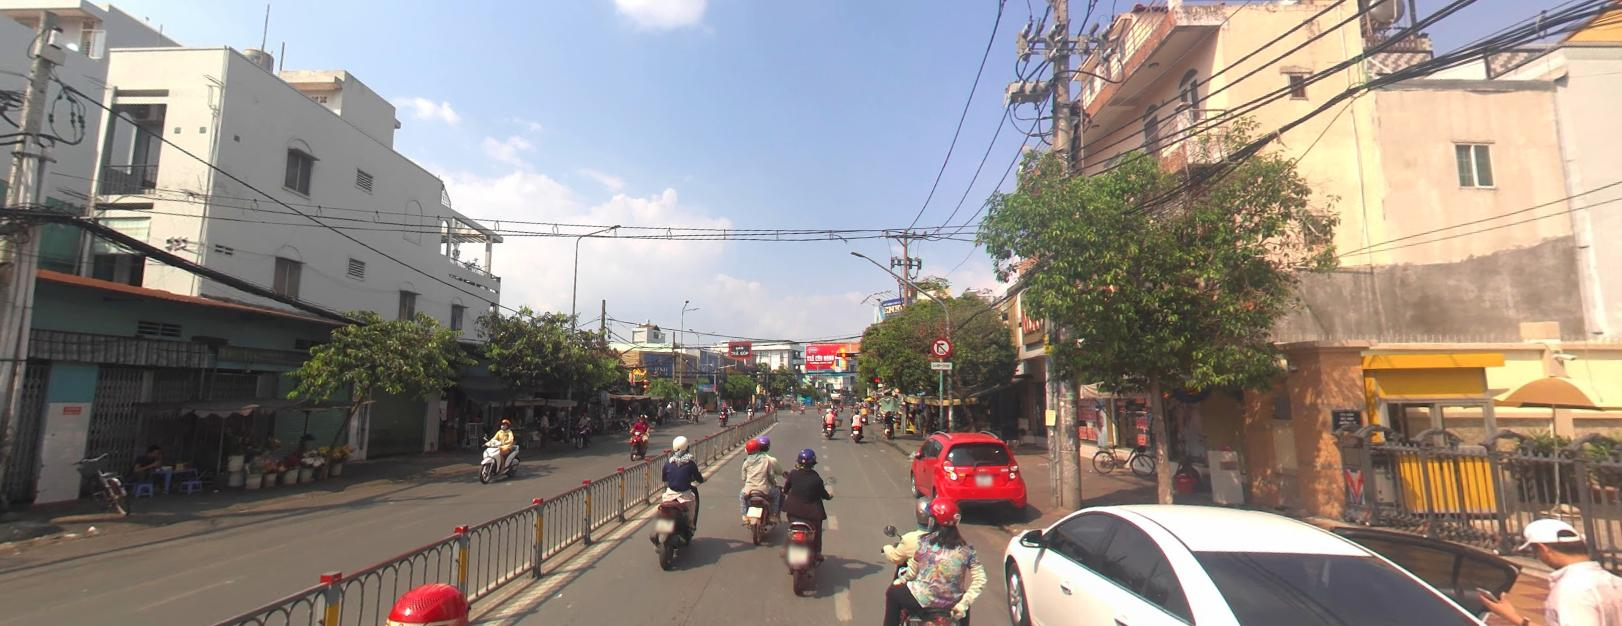Cam re: (931, 335, 952, 356)
